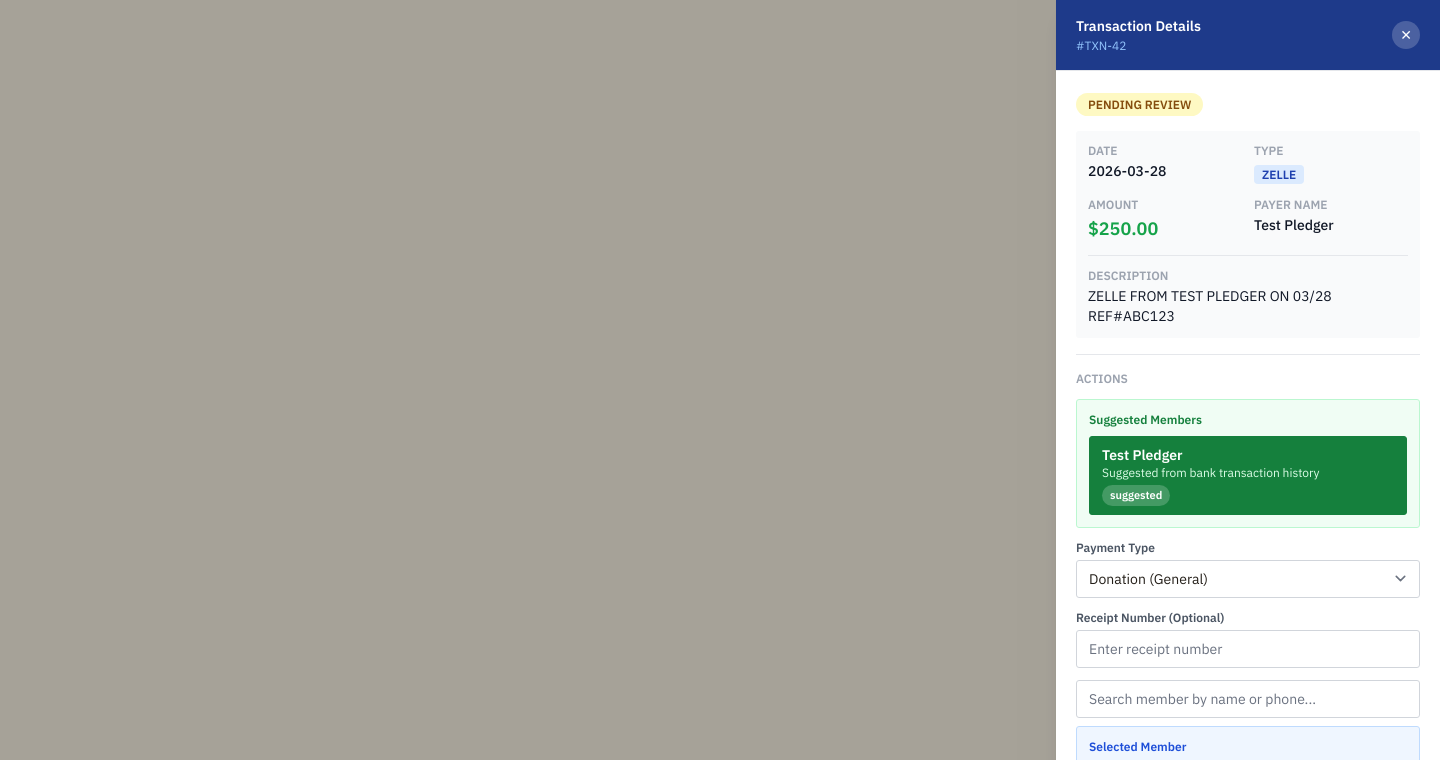
Test: BankTransactionDetail — pledge reconciliation › offers to open a pledge when the member has none, defaulting to the payment
Step 1. Select "Pledge Drive (መብጸዓ)" in the dropdown labelled "Payment Type" → [1248, 578], box [1076, 560, 1420, 598]
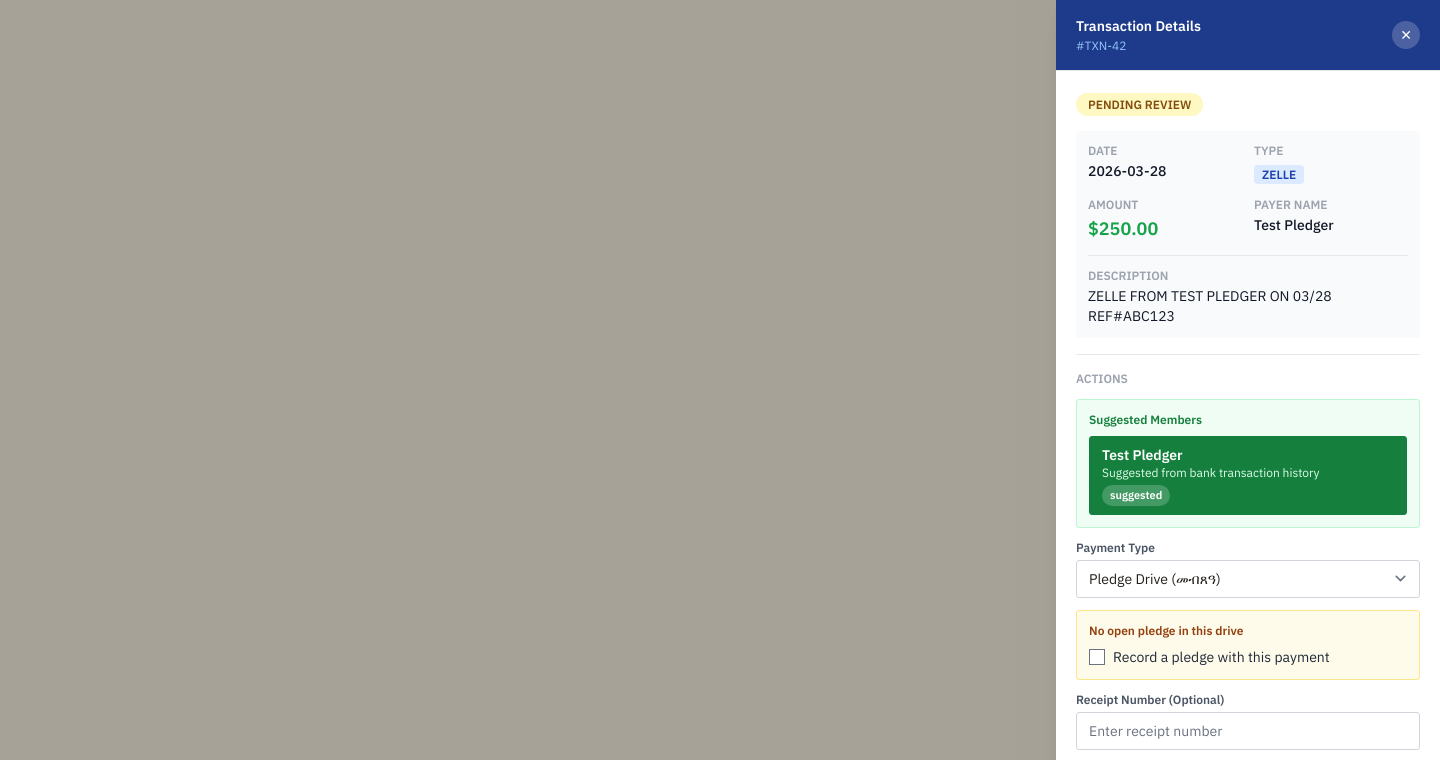
Result: the text "No open pledge in this drive" is shown at [1089, 622, 1243, 638]
Step 2. Click the checkbox labelled "Record a pledge with this payment" → [1097, 656], box [1089, 648, 1105, 664]
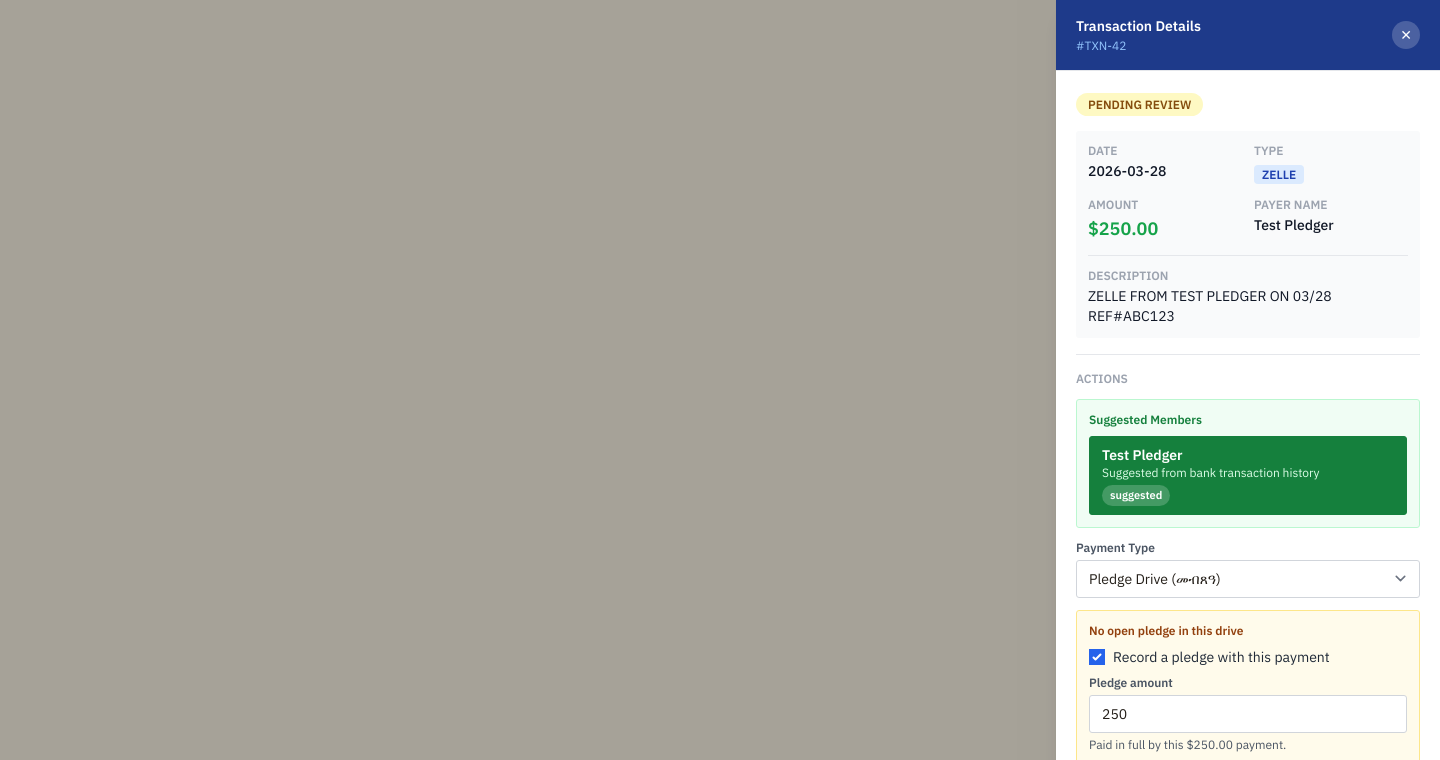
Result: the number field labelled "Pledge amount" holds "250" at [1089, 694, 1407, 732]
